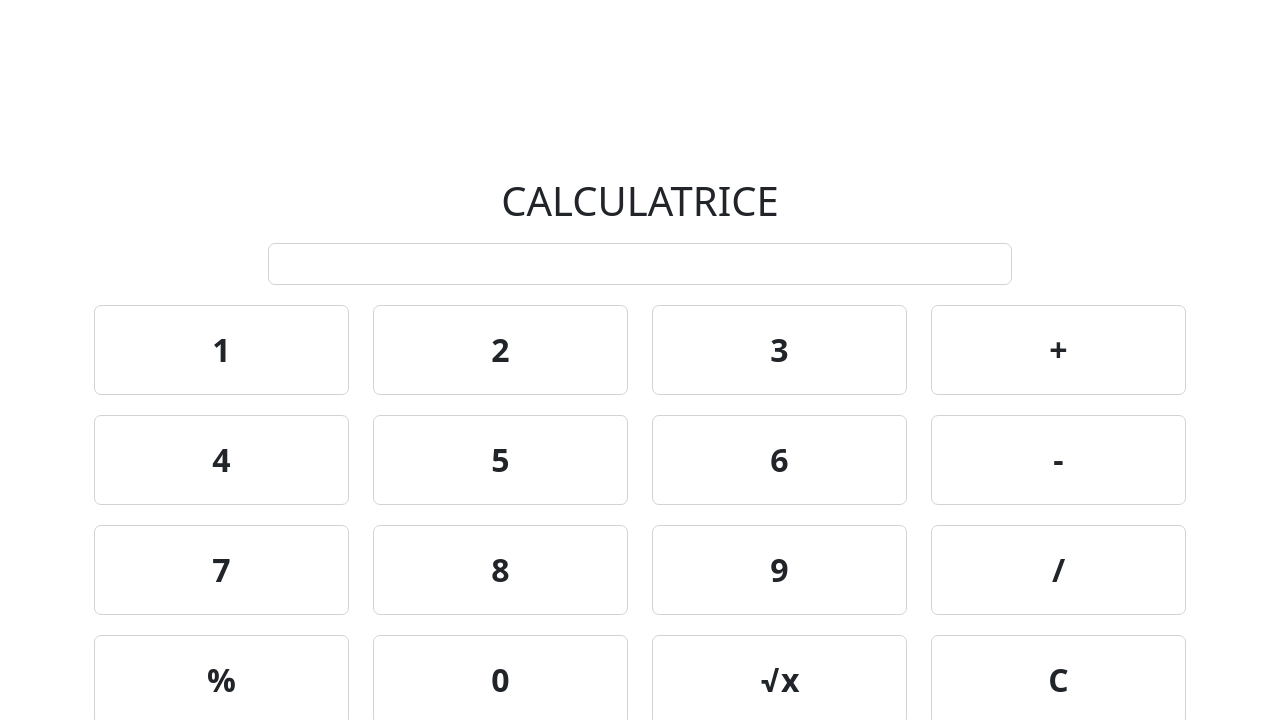
Test: Calculator › Test soustraction
The image size is (1280, 720).
Step 1. Click the text "1" → (222, 350), box top-left (94, 305), bottom-right (349, 395)
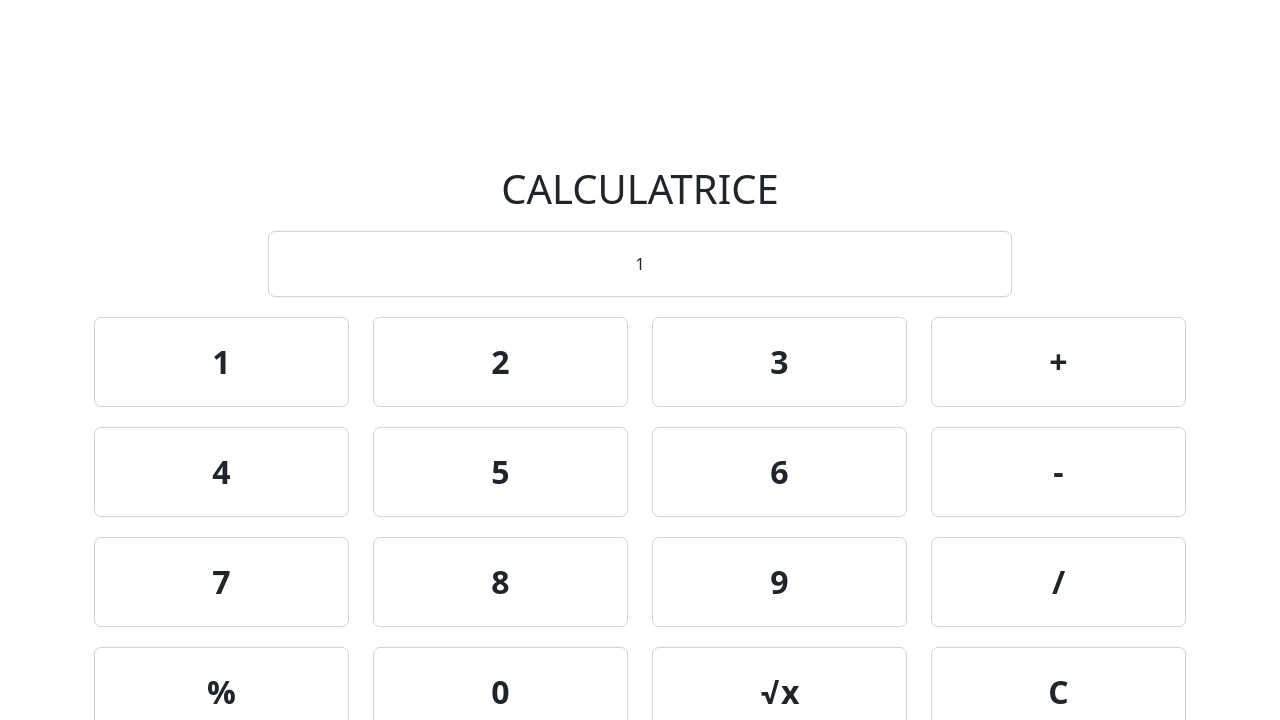
Step 2. Click the text "-" → (1059, 472), box top-left (931, 427), bottom-right (1186, 517)
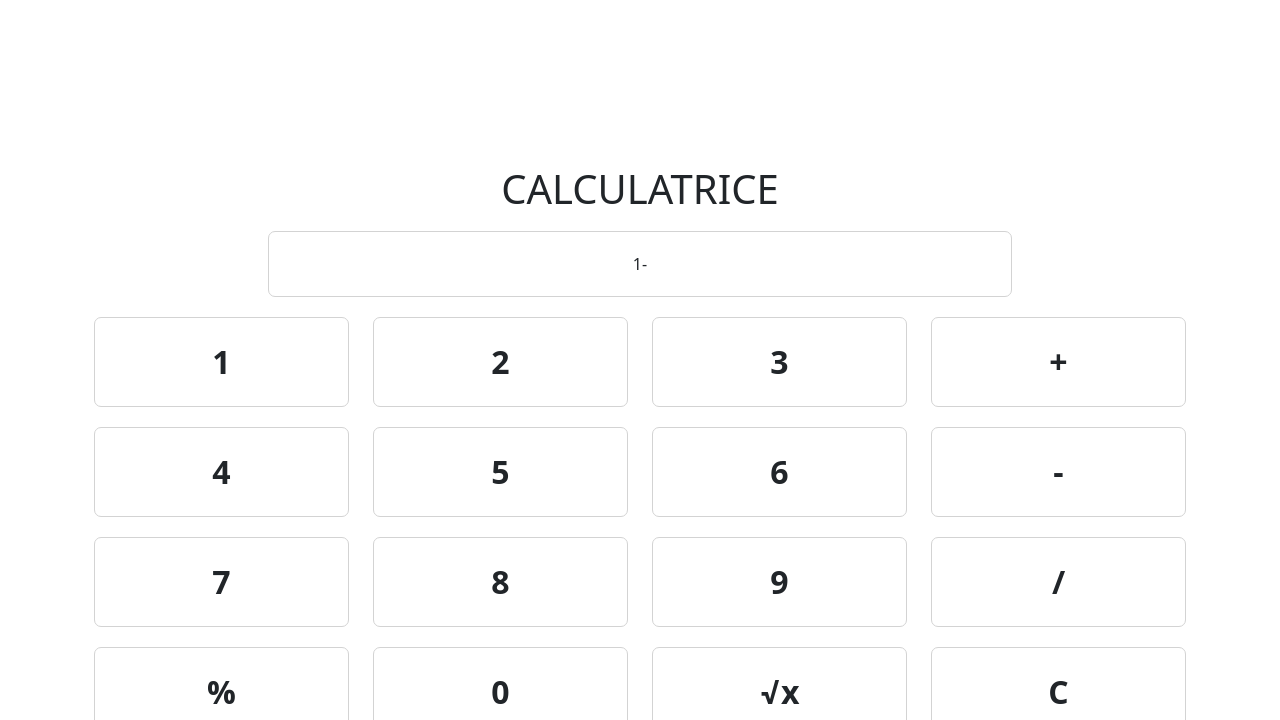
Step 3. Click the text "2" → (501, 362), box top-left (373, 317), bottom-right (628, 407)
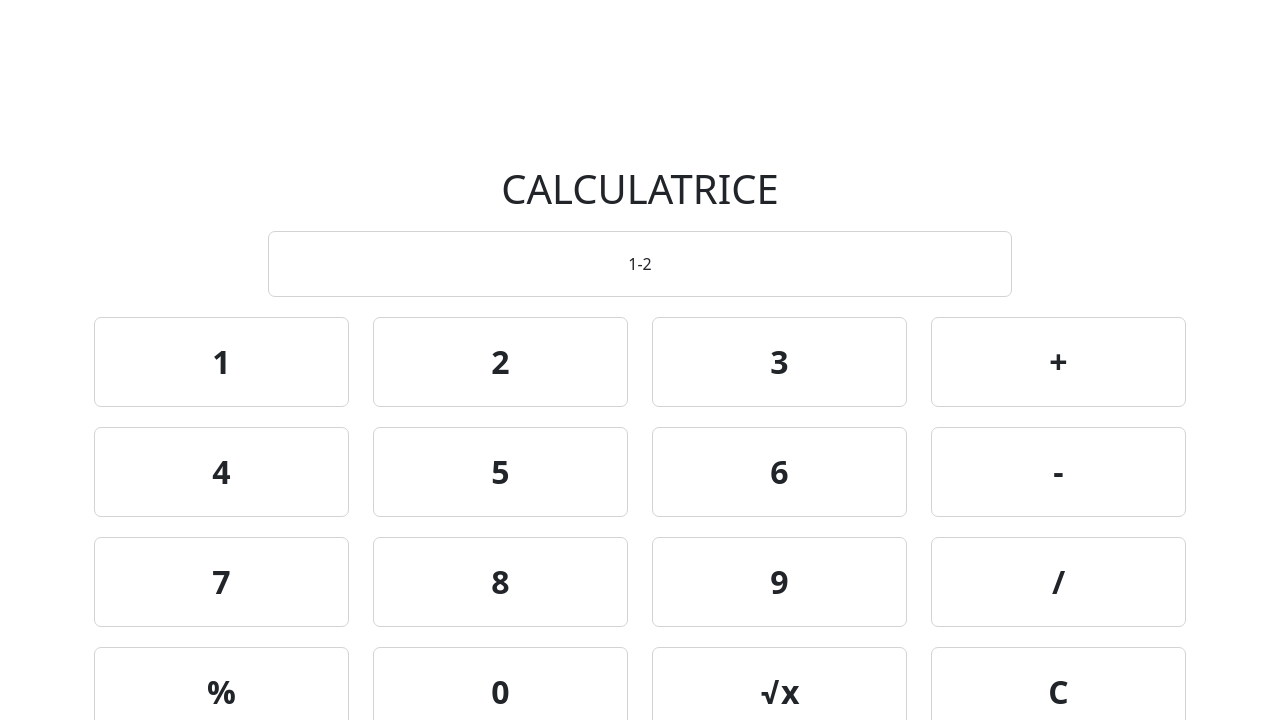
Step 4. Scroll
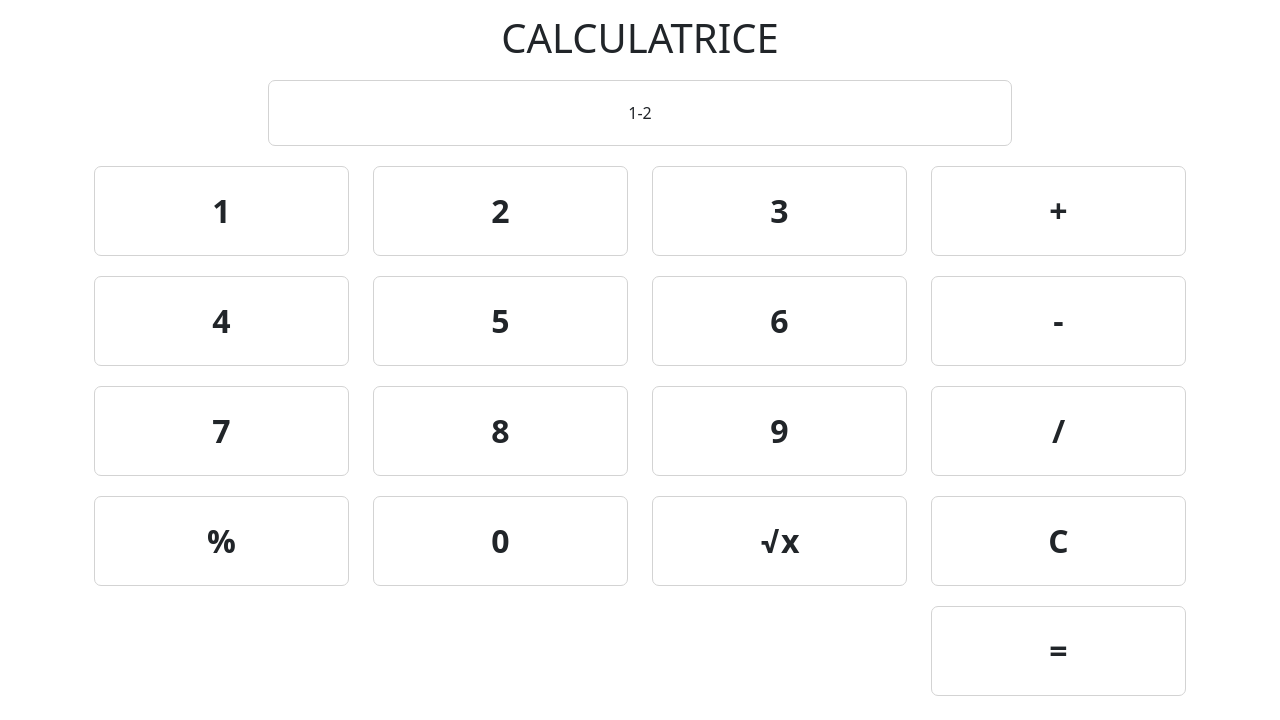
Step 5. Click the text "=" → (1059, 651), box top-left (931, 606), bottom-right (1186, 696)
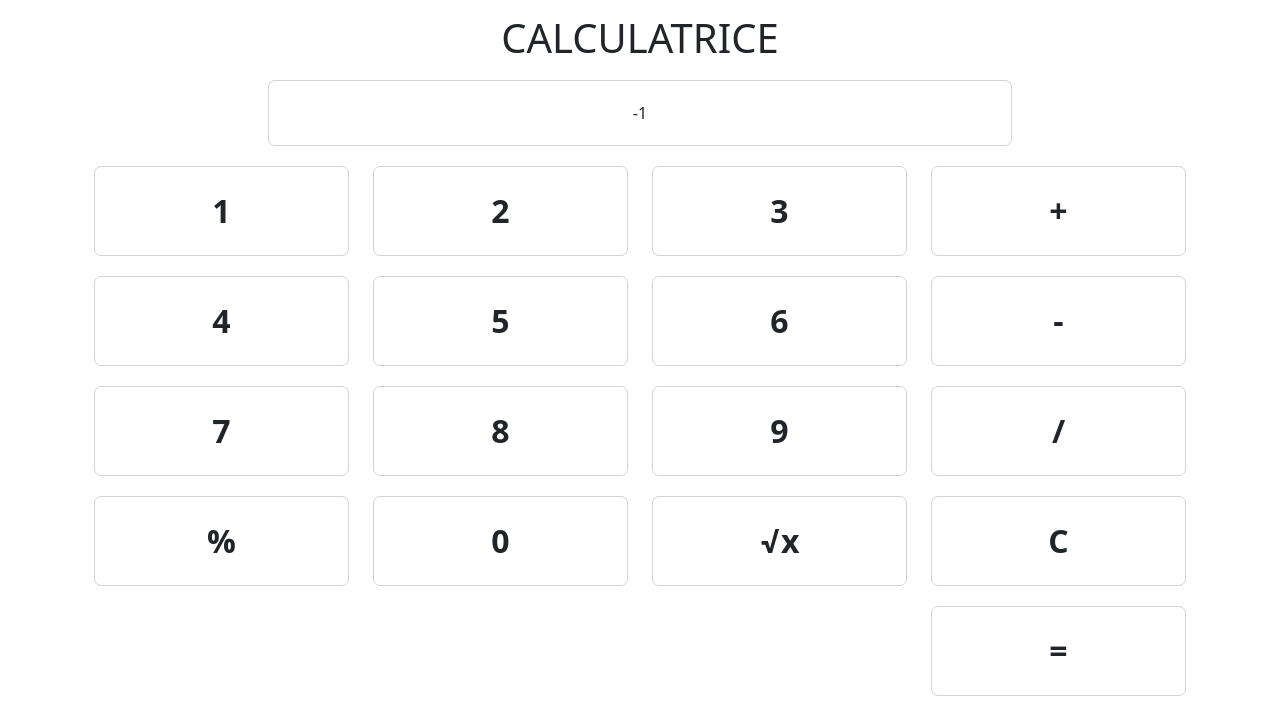
Expected: the text "-1" is shown, top-left (268, 80), bottom-right (1012, 146)
